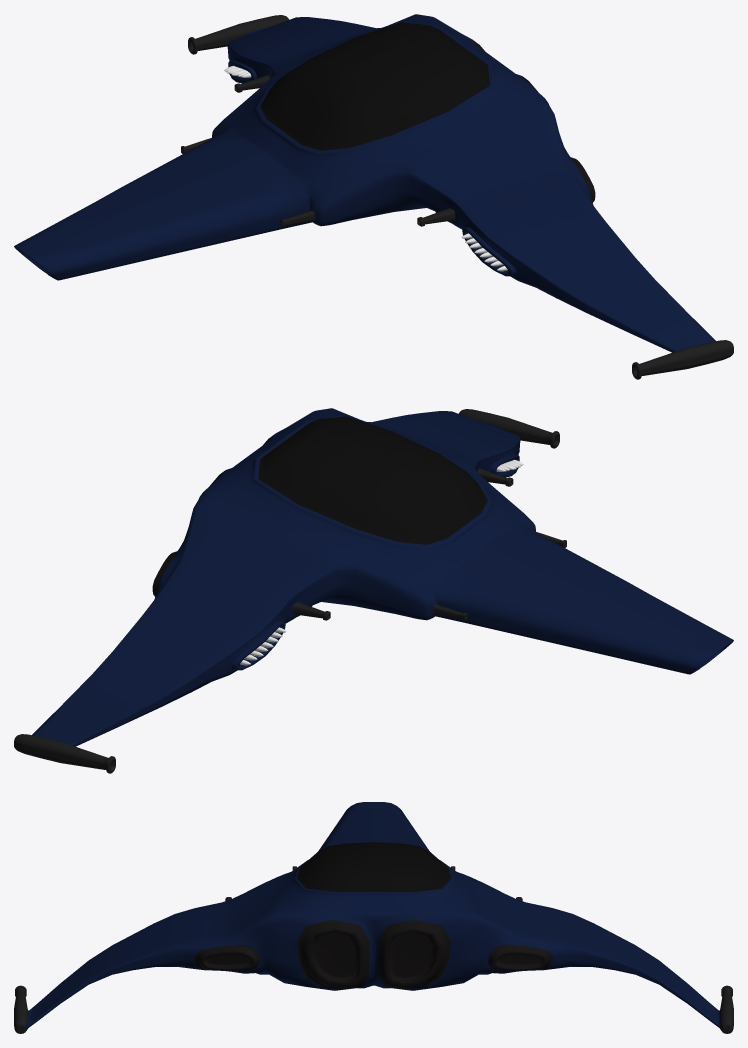
Rendered from First_ship.FBX.
The picture shows the model from 3 angles, top to bottom: view 1: azimuth 30°, elevation 25°; view 2: azimuth 150°, elevation 25°; view 3: azimuth 270°, elevation 25°; orthographic projection. The views are drawn at different scales.
Visible parts, largest first — view 1: Fighter_Body, Missiles; view 2: Fighter_Body, Missiles; view 3: Fighter_Body.
Boxes of the visible parts, x1,y1,x2,y2 form: Fighter_Body: (14,14,733,379); Missiles: (224,65,507,271); Fighter_Body: (14,408,733,773); Missiles: (240,459,523,665); Fighter_Body: (14,802,733,1033).
Bounding box in the file's own units: 23.58 × 8.21 × 38.18.
